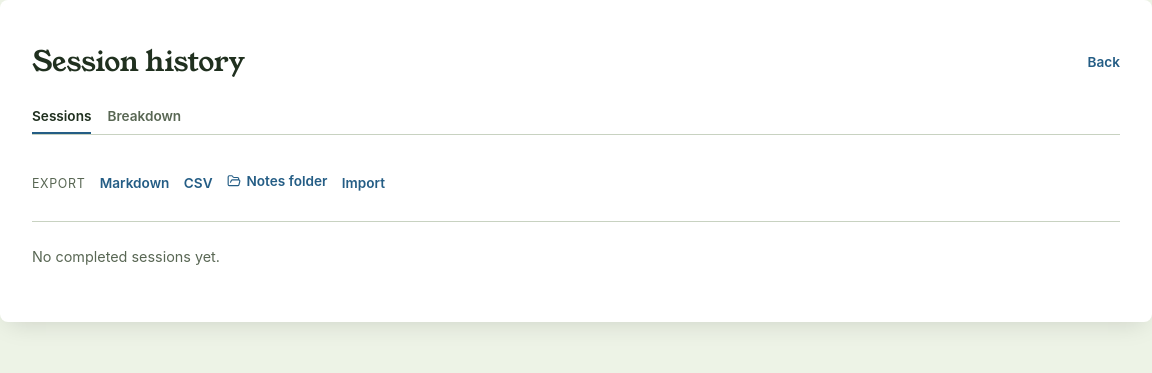
Scenario: History import › shows an error when the file cannot be read
Step 1. Click the button "Import" → click(363, 183), box x1=342 y1=161 x2=385 y2=205
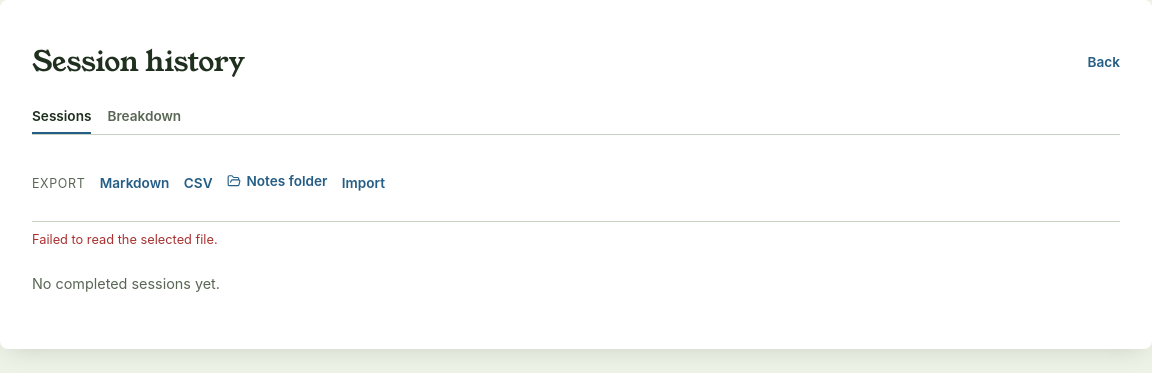
expect the message shows "Failed to read": met, box x1=32 y1=232 x2=218 y2=247
